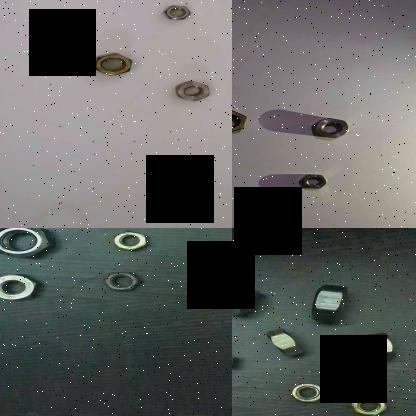NUTS: (288, 276, 370, 326), (254, 327, 308, 360), (0, 228, 55, 258), (0, 271, 43, 303), (89, 50, 137, 76), (98, 267, 145, 293), (109, 228, 155, 252), (309, 115, 353, 140), (232, 283, 263, 318), (364, 331, 396, 364), (171, 78, 214, 102), (288, 382, 330, 406), (197, 278, 232, 306), (347, 392, 387, 416), (298, 171, 330, 191), (160, 3, 198, 19), (232, 107, 250, 133)
